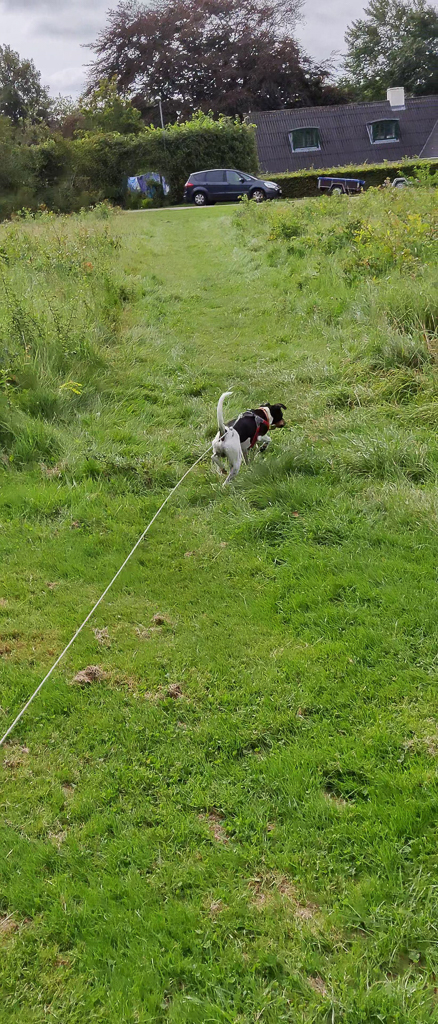Dog: (194, 383, 301, 494)
